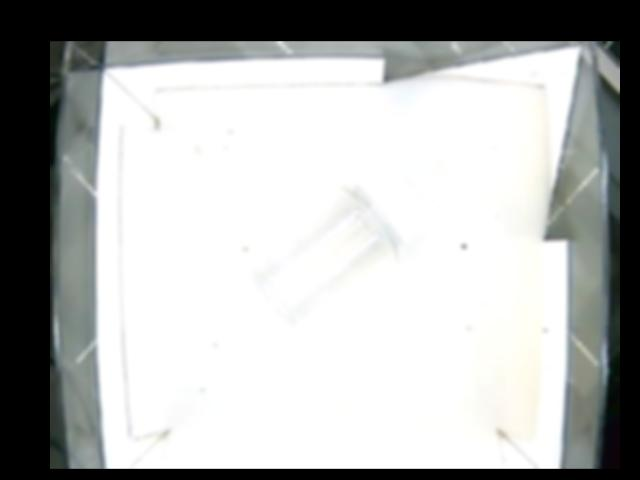Bottle: (247, 166, 425, 328)
